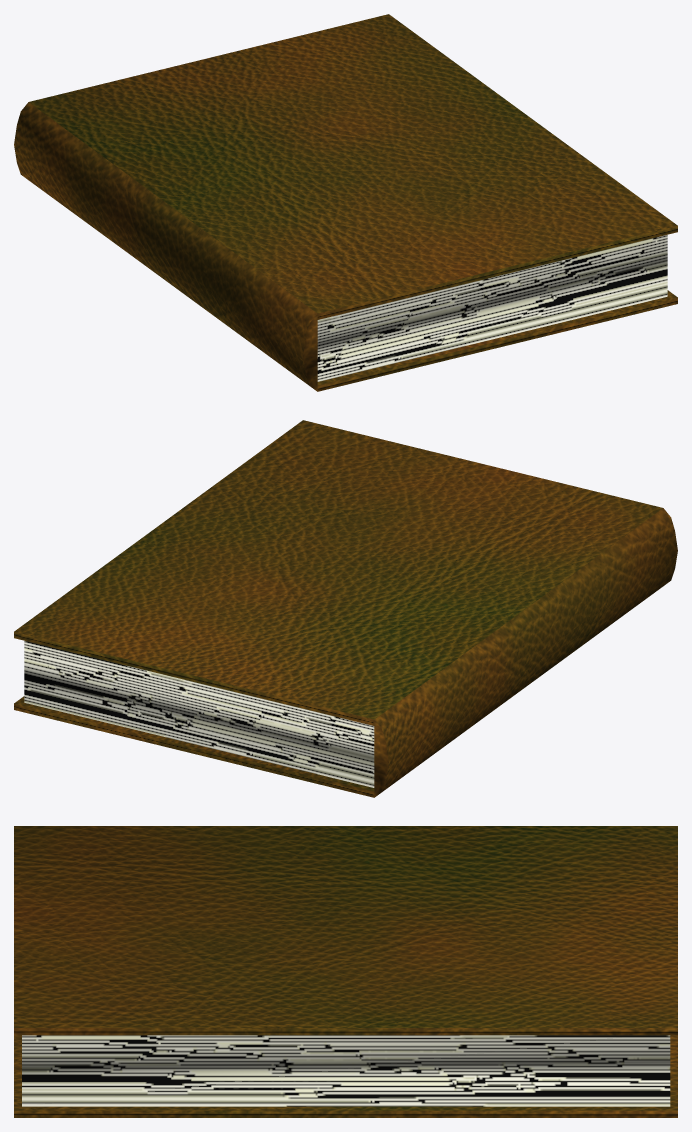
The model's file is Book_5.fbx.
The picture shows the model from 3 angles, top to bottom: view 1: azimuth 30°, elevation 25°; view 2: azimuth 150°, elevation 25°; view 3: azimuth 270°, elevation 25°; orthographic projection. The views are drawn at different scales.
Parts seen in each view (by area): view 1: Book; view 2: Book; view 3: Book.
Part boxes in pixels (x1=…): Book: x1=14, y1=14, x2=677, y2=391; Book: x1=14, y1=420, x2=677, y2=797; Book: x1=14, y1=826, x2=677, y2=1117.
Bounding box in the file's own units: 14.85 × 2.96 × 19.84.
Materials: 1 (1 with a texture image).
